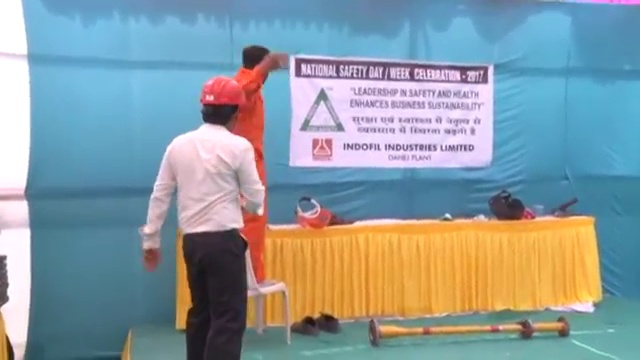helmet: (198, 75, 246, 107)
helmet_off: (240, 43, 271, 88)
helmet_on: (197, 74, 246, 131)
person: (138, 73, 266, 360), (226, 39, 285, 283)
